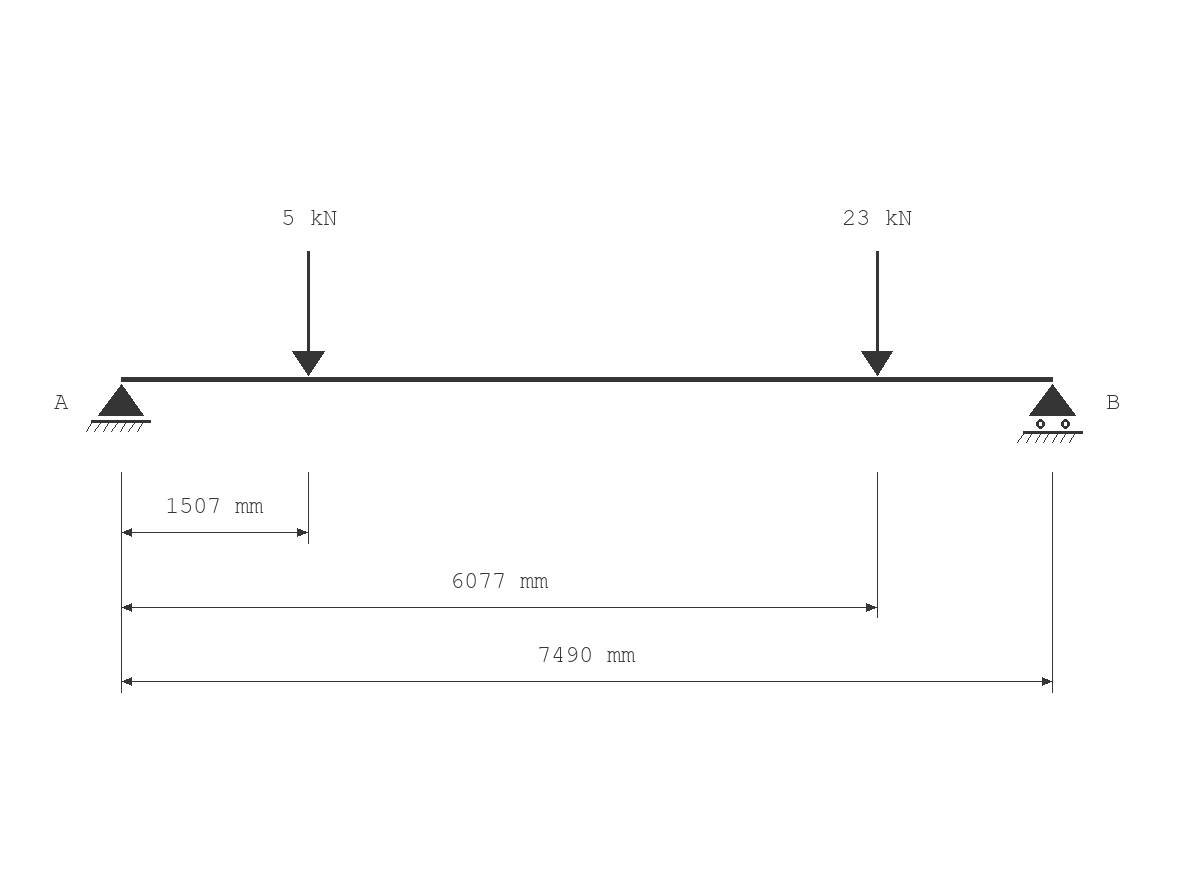pin_support: (86, 384, 151, 432)
point_load: (292, 251, 325, 376), (861, 251, 893, 376)
roller_support: (1017, 384, 1083, 443)
